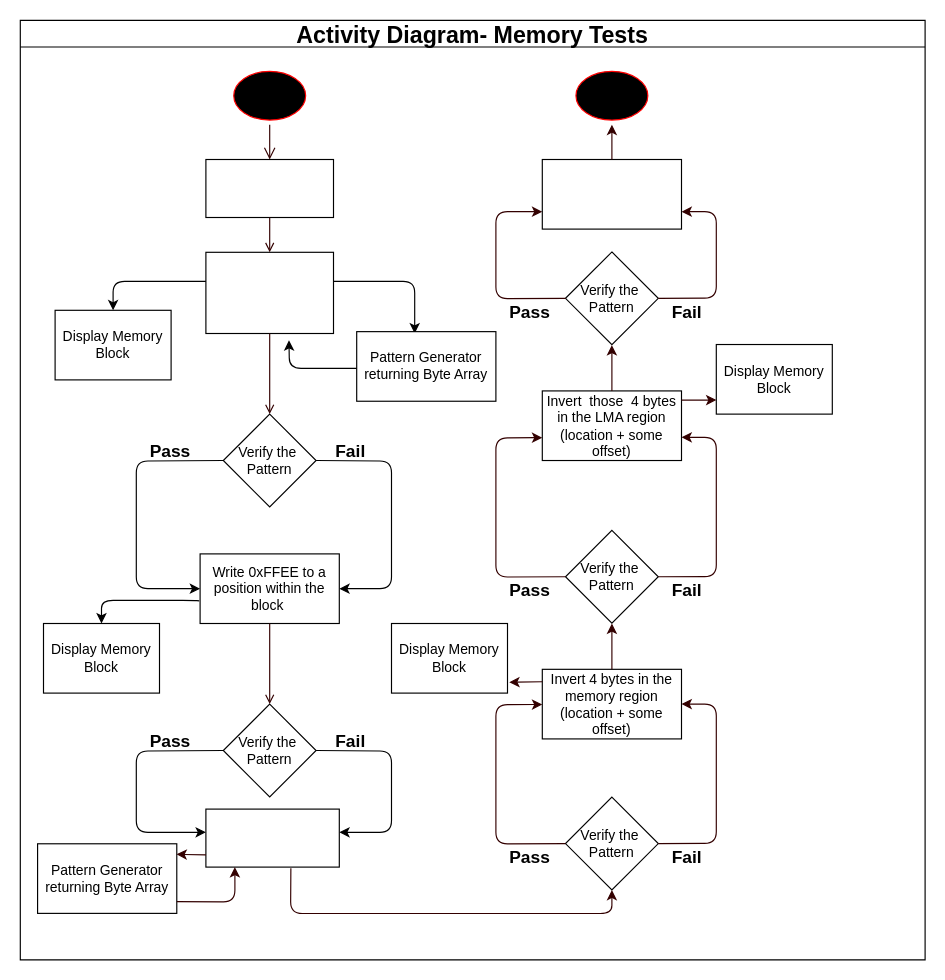
The diagram is 945 pixels wide and 980 high, and some of its shapes have lost their labels. The centre of each missing label's shape, as x and y in pixels:
"Allocate 16 Bytes Block" belongs at (x=269, y=187).
"Free the 16 byte allocated region (if necessary on your target)" belongs at (x=611, y=193).
"Write a Memory Pattern with selected Seed" belongs at (x=269, y=292).
"Write memory pattern using same seed as before" belongs at (x=272, y=837).
